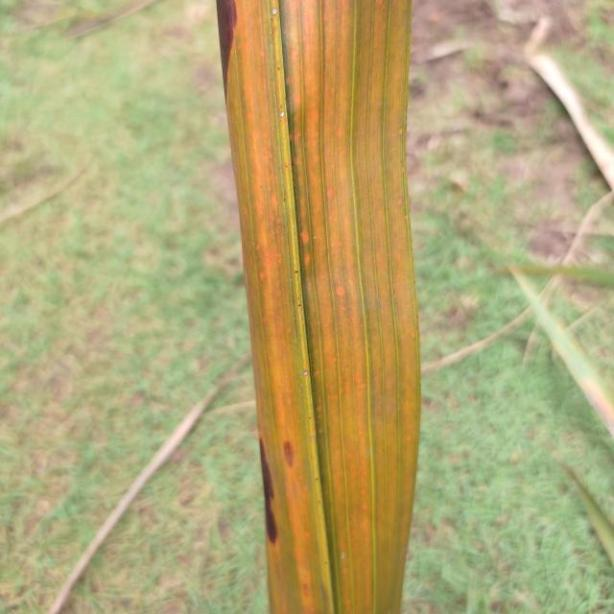Megnesium: (219, 0, 422, 614)
